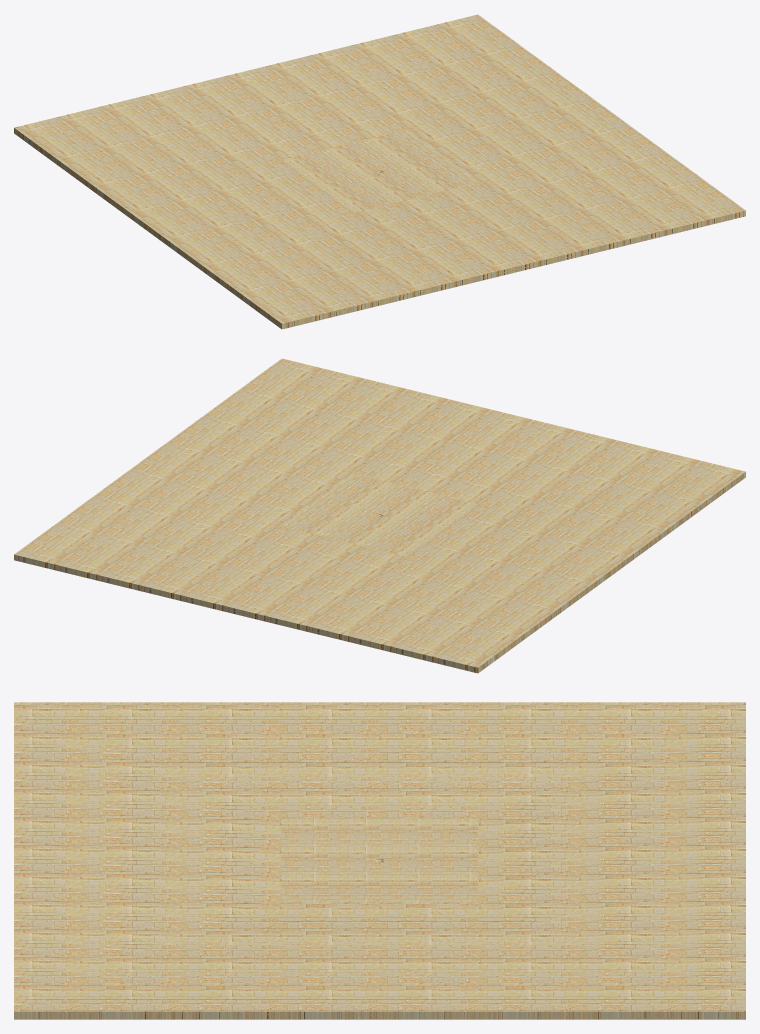
Rendered from trappe.fbx.
3 renders of one model, top to bottom at view 1: azimuth 30°, elevation 25°; view 2: azimuth 150°, elevation 25°; view 3: azimuth 270°, elevation 25°, orthographic. The views are drawn at different scales.
Visible parts, largest first — view 1: Cube.002; view 2: Cube.002; view 3: Cube.002.
Part boxes in pixels (x1=…): Cube.002: x1=14, y1=14, x2=745, y2=329; Cube.002: x1=14, y1=358, x2=745, y2=673; Cube.002: x1=14, y1=702, x2=745, y2=1019.
Size of the model in its own units: 19461 by 4115 by 19461.
